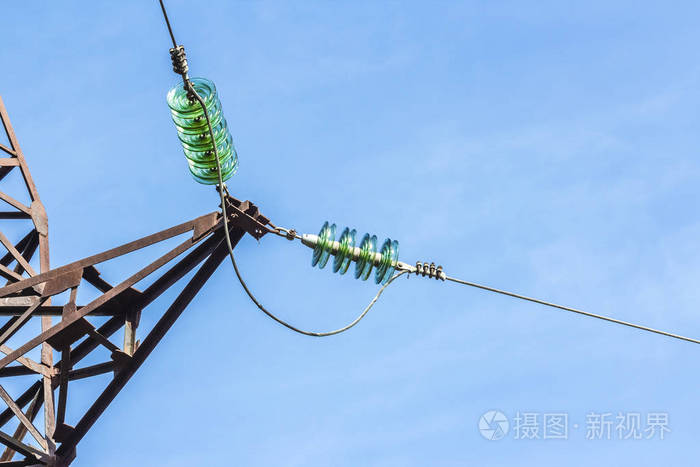insulator: (168, 77, 238, 186), (310, 220, 398, 285)
